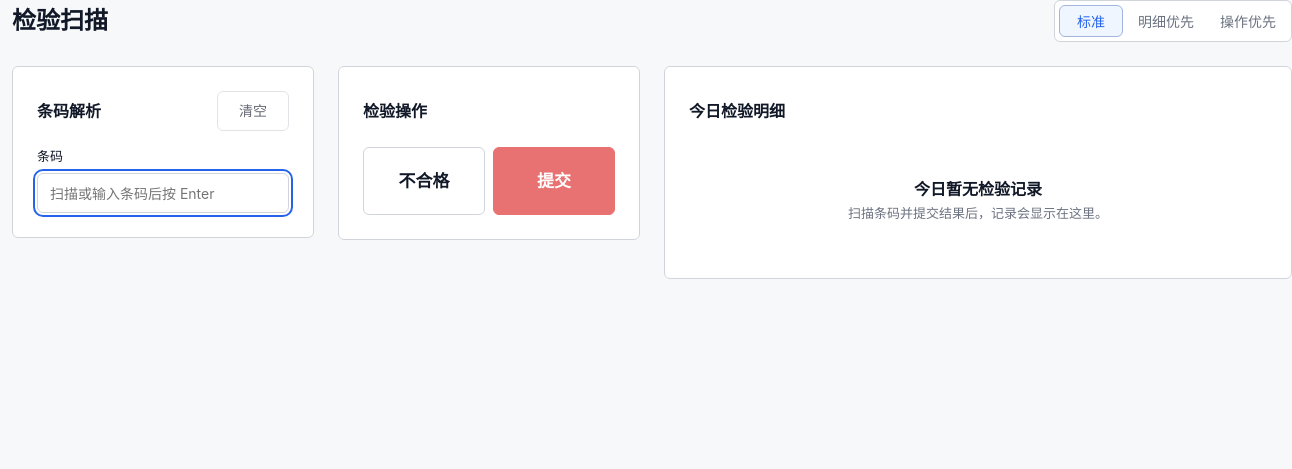
Test: InspectionScanningPage › clicking 不合格 before scanning reveals defect reasons with Submit disabled before selection for SCAN-07
Click the button "不合格" at point(424, 181), box [363, 147, 485, 215]
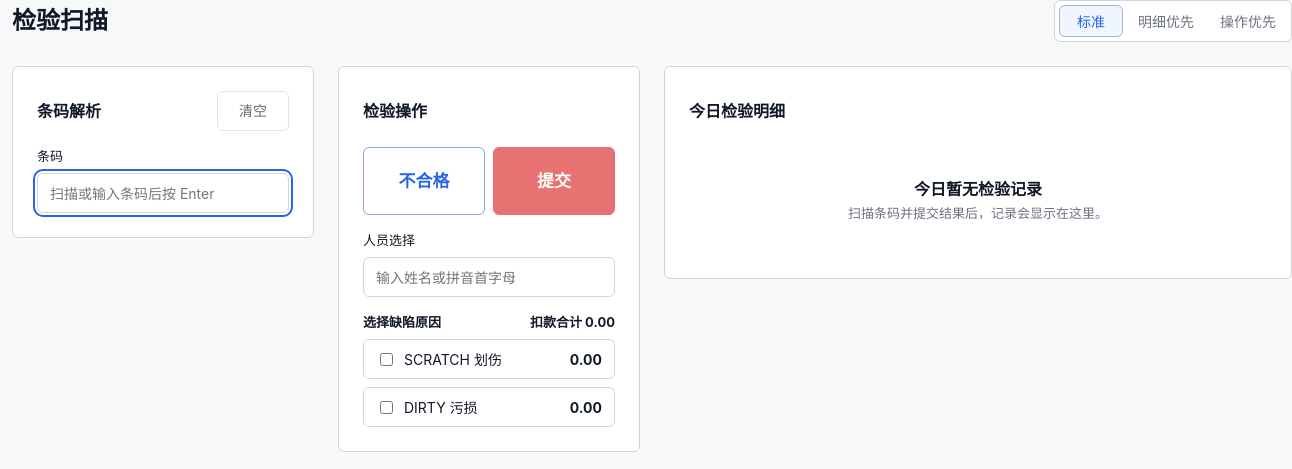
Expected: the button "提交" is disabled, [493, 147, 615, 215]
Expected: the text "选择缺陷原因" is shown, [363, 313, 441, 331]
